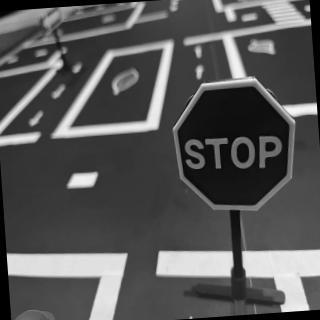duck_specialty: (11, 305, 84, 320), (193, 43, 205, 60)
road_oneway: (25, 107, 48, 128), (49, 81, 71, 102), (192, 61, 209, 86)
sign_oneway_left: (40, 7, 69, 37)
sign_stop: (170, 75, 302, 217)
